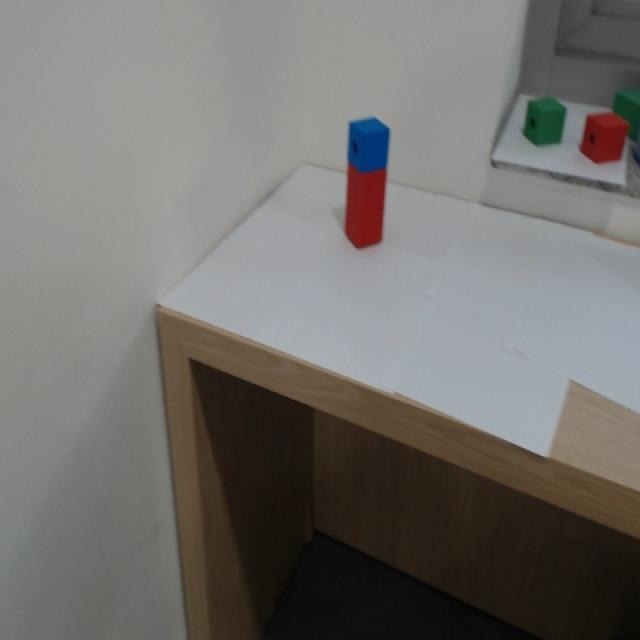cube: (342, 115, 395, 168)
